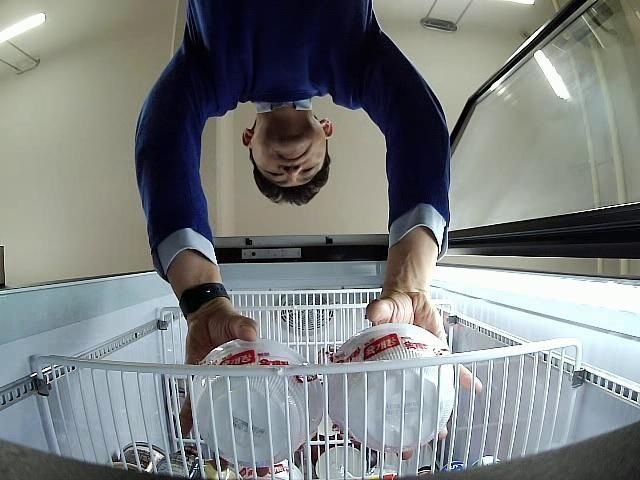09_yukGaeJang: (193, 340, 324, 466), (328, 324, 454, 451)
